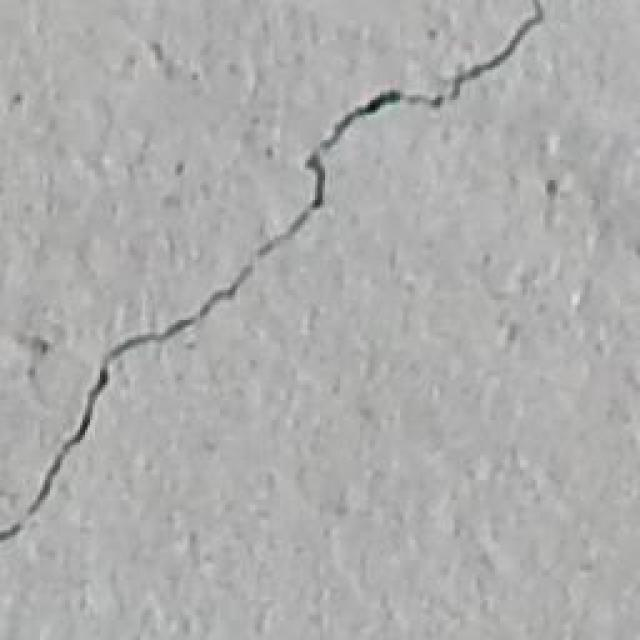Crack: (0, 0, 538, 540)
